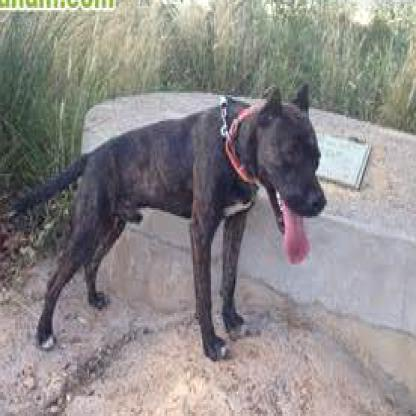dog: (18, 81, 327, 363)
